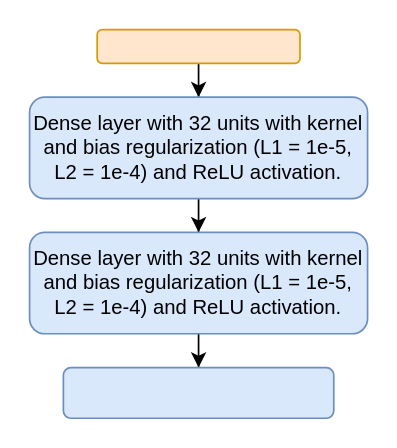
Some shapes in this 397 by 448 pixel diagram are drawn without their labels. Each missing label, with the centre of its shape:
Dense layer with 1 unit and Sigmoid activation: the point at 198,392
Edge embeddings: the point at 197,45
